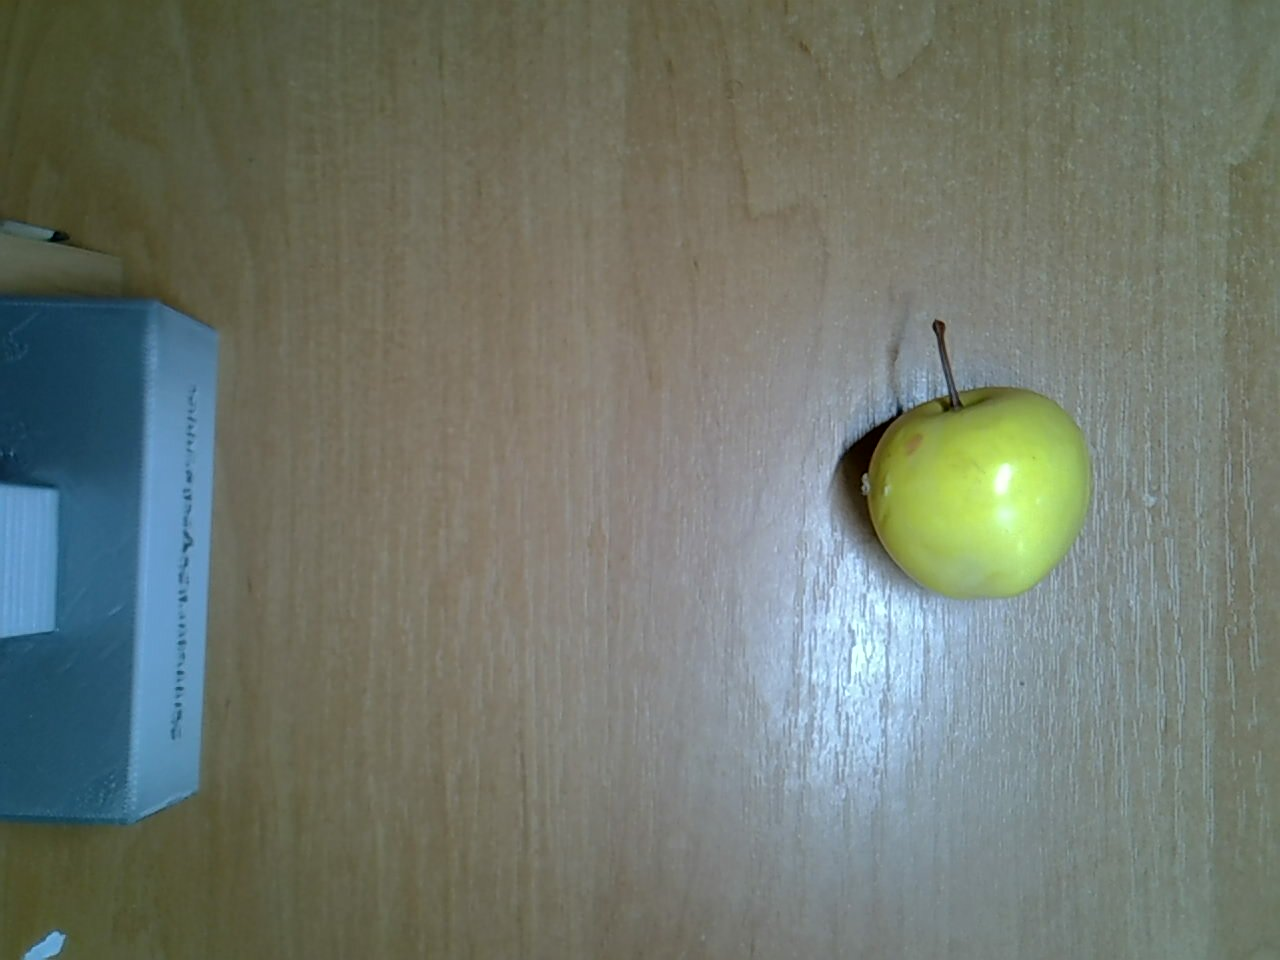apple: (862, 312, 1096, 606)
